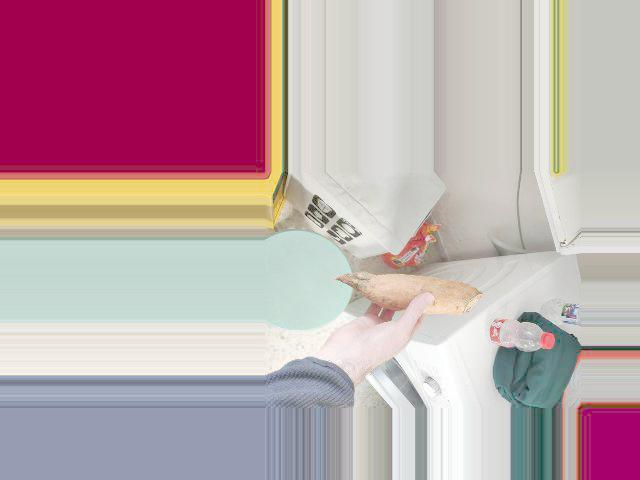sweet_potato: (327, 269, 487, 307)
